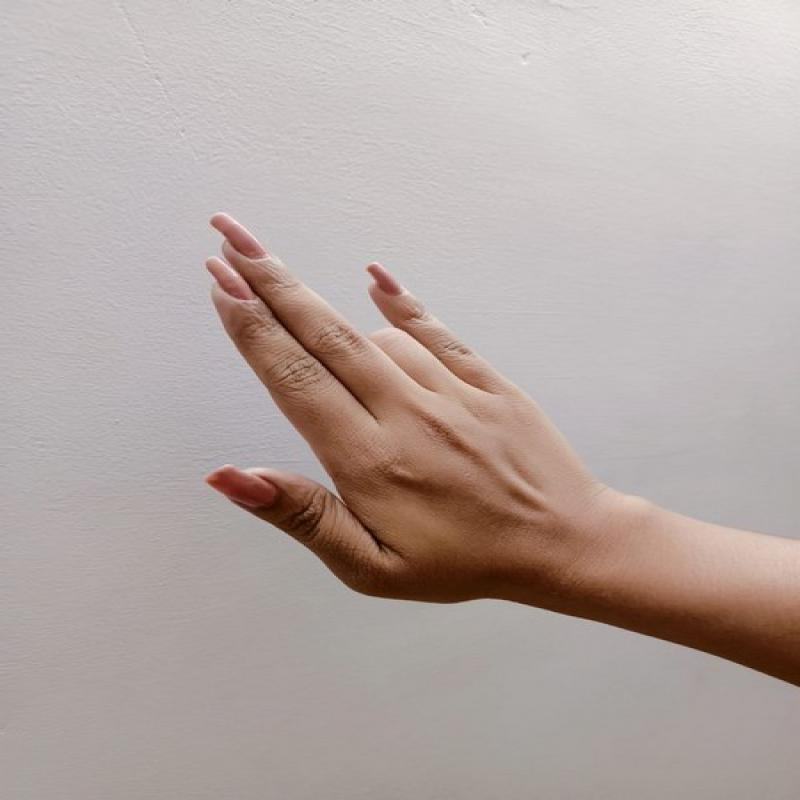Pathaaka: (186, 154, 575, 639)
